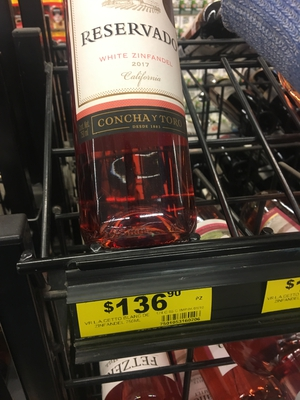reservado white zinfandel: (63, 3, 194, 238)
